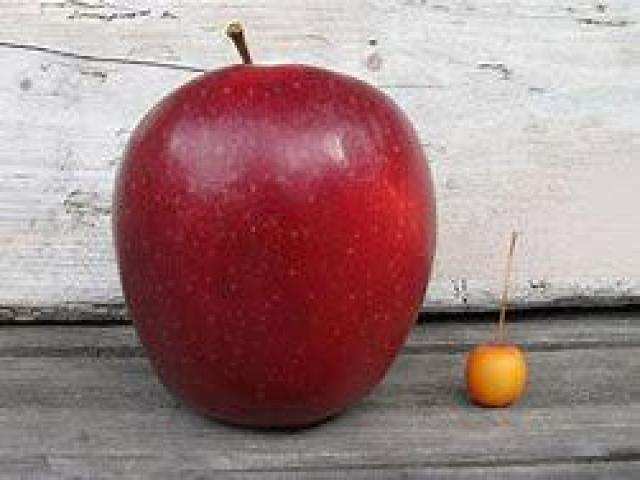apple: (108, 16, 442, 441)
